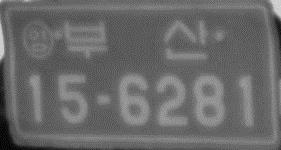-: (93, 91, 114, 108)
1: (235, 74, 259, 127), (26, 72, 49, 125)
2: (154, 72, 188, 129)
5: (56, 72, 89, 124)
6: (118, 71, 150, 127)
8: (193, 73, 228, 127)
부산_D: (61, 16, 211, 63)
영: (20, 17, 55, 62)
